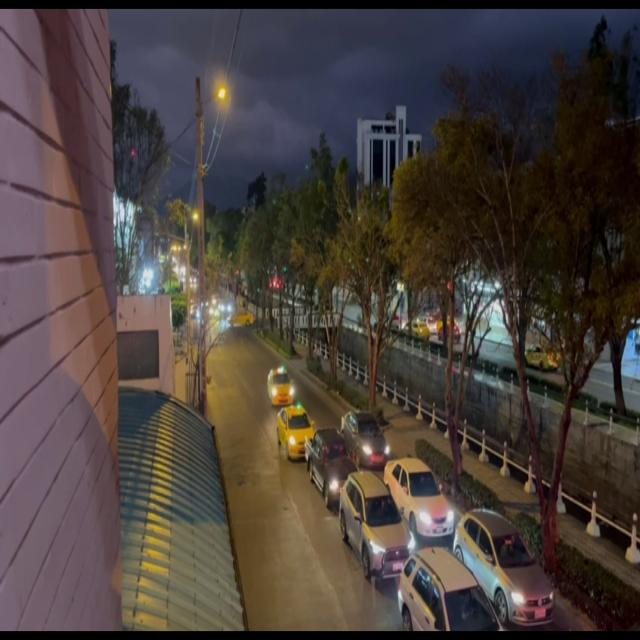CMT: (308, 430, 354, 504)
SUV: (401, 550, 491, 640), (340, 476, 407, 584)
